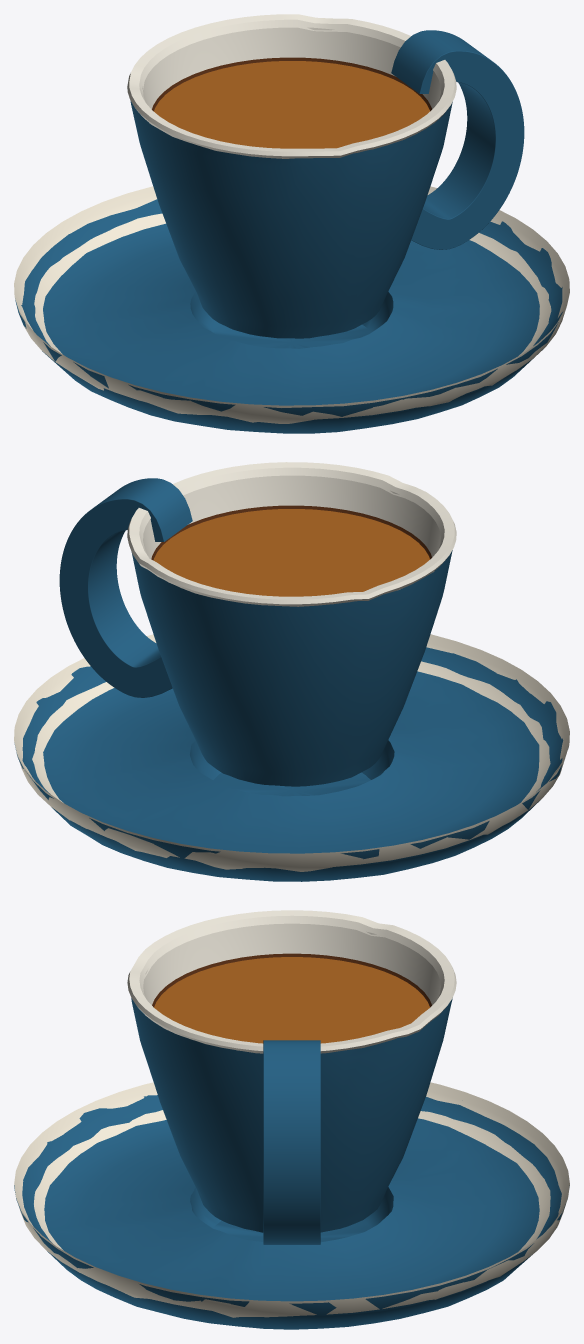
Rendered from cup.glb.
3 renders of one model, top to bottom at view 1: azimuth 30°, elevation 25°; view 2: azimuth 150°, elevation 25°; view 3: azimuth 270°, elevation 25°, orthographic.
Visible parts, largest first — view 1: EspressoCup; view 2: EspressoCup; view 3: EspressoCup.
Part boxes in pixels (x1,y1,x2,y2): EspressoCup: (14,14,569,433); EspressoCup: (14,462,569,881); EspressoCup: (14,910,569,1329).
Size of the model in its own units: 0.1202 by 0.0697 by 0.1202.
